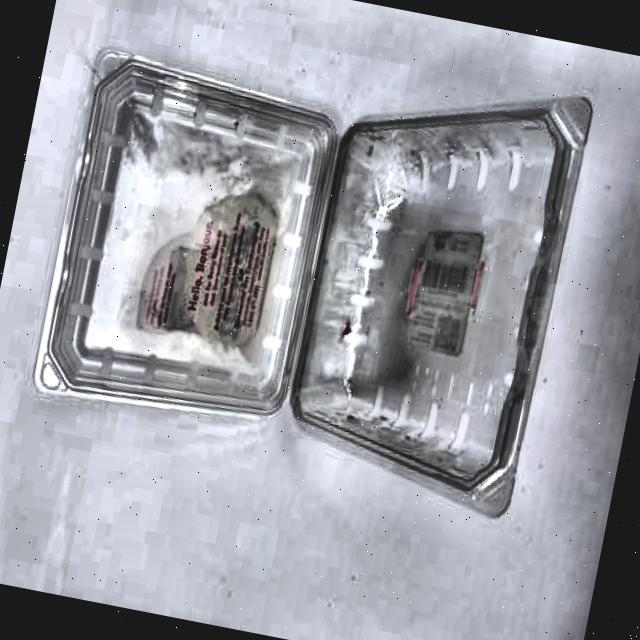plastic: (22, 16, 596, 516)
